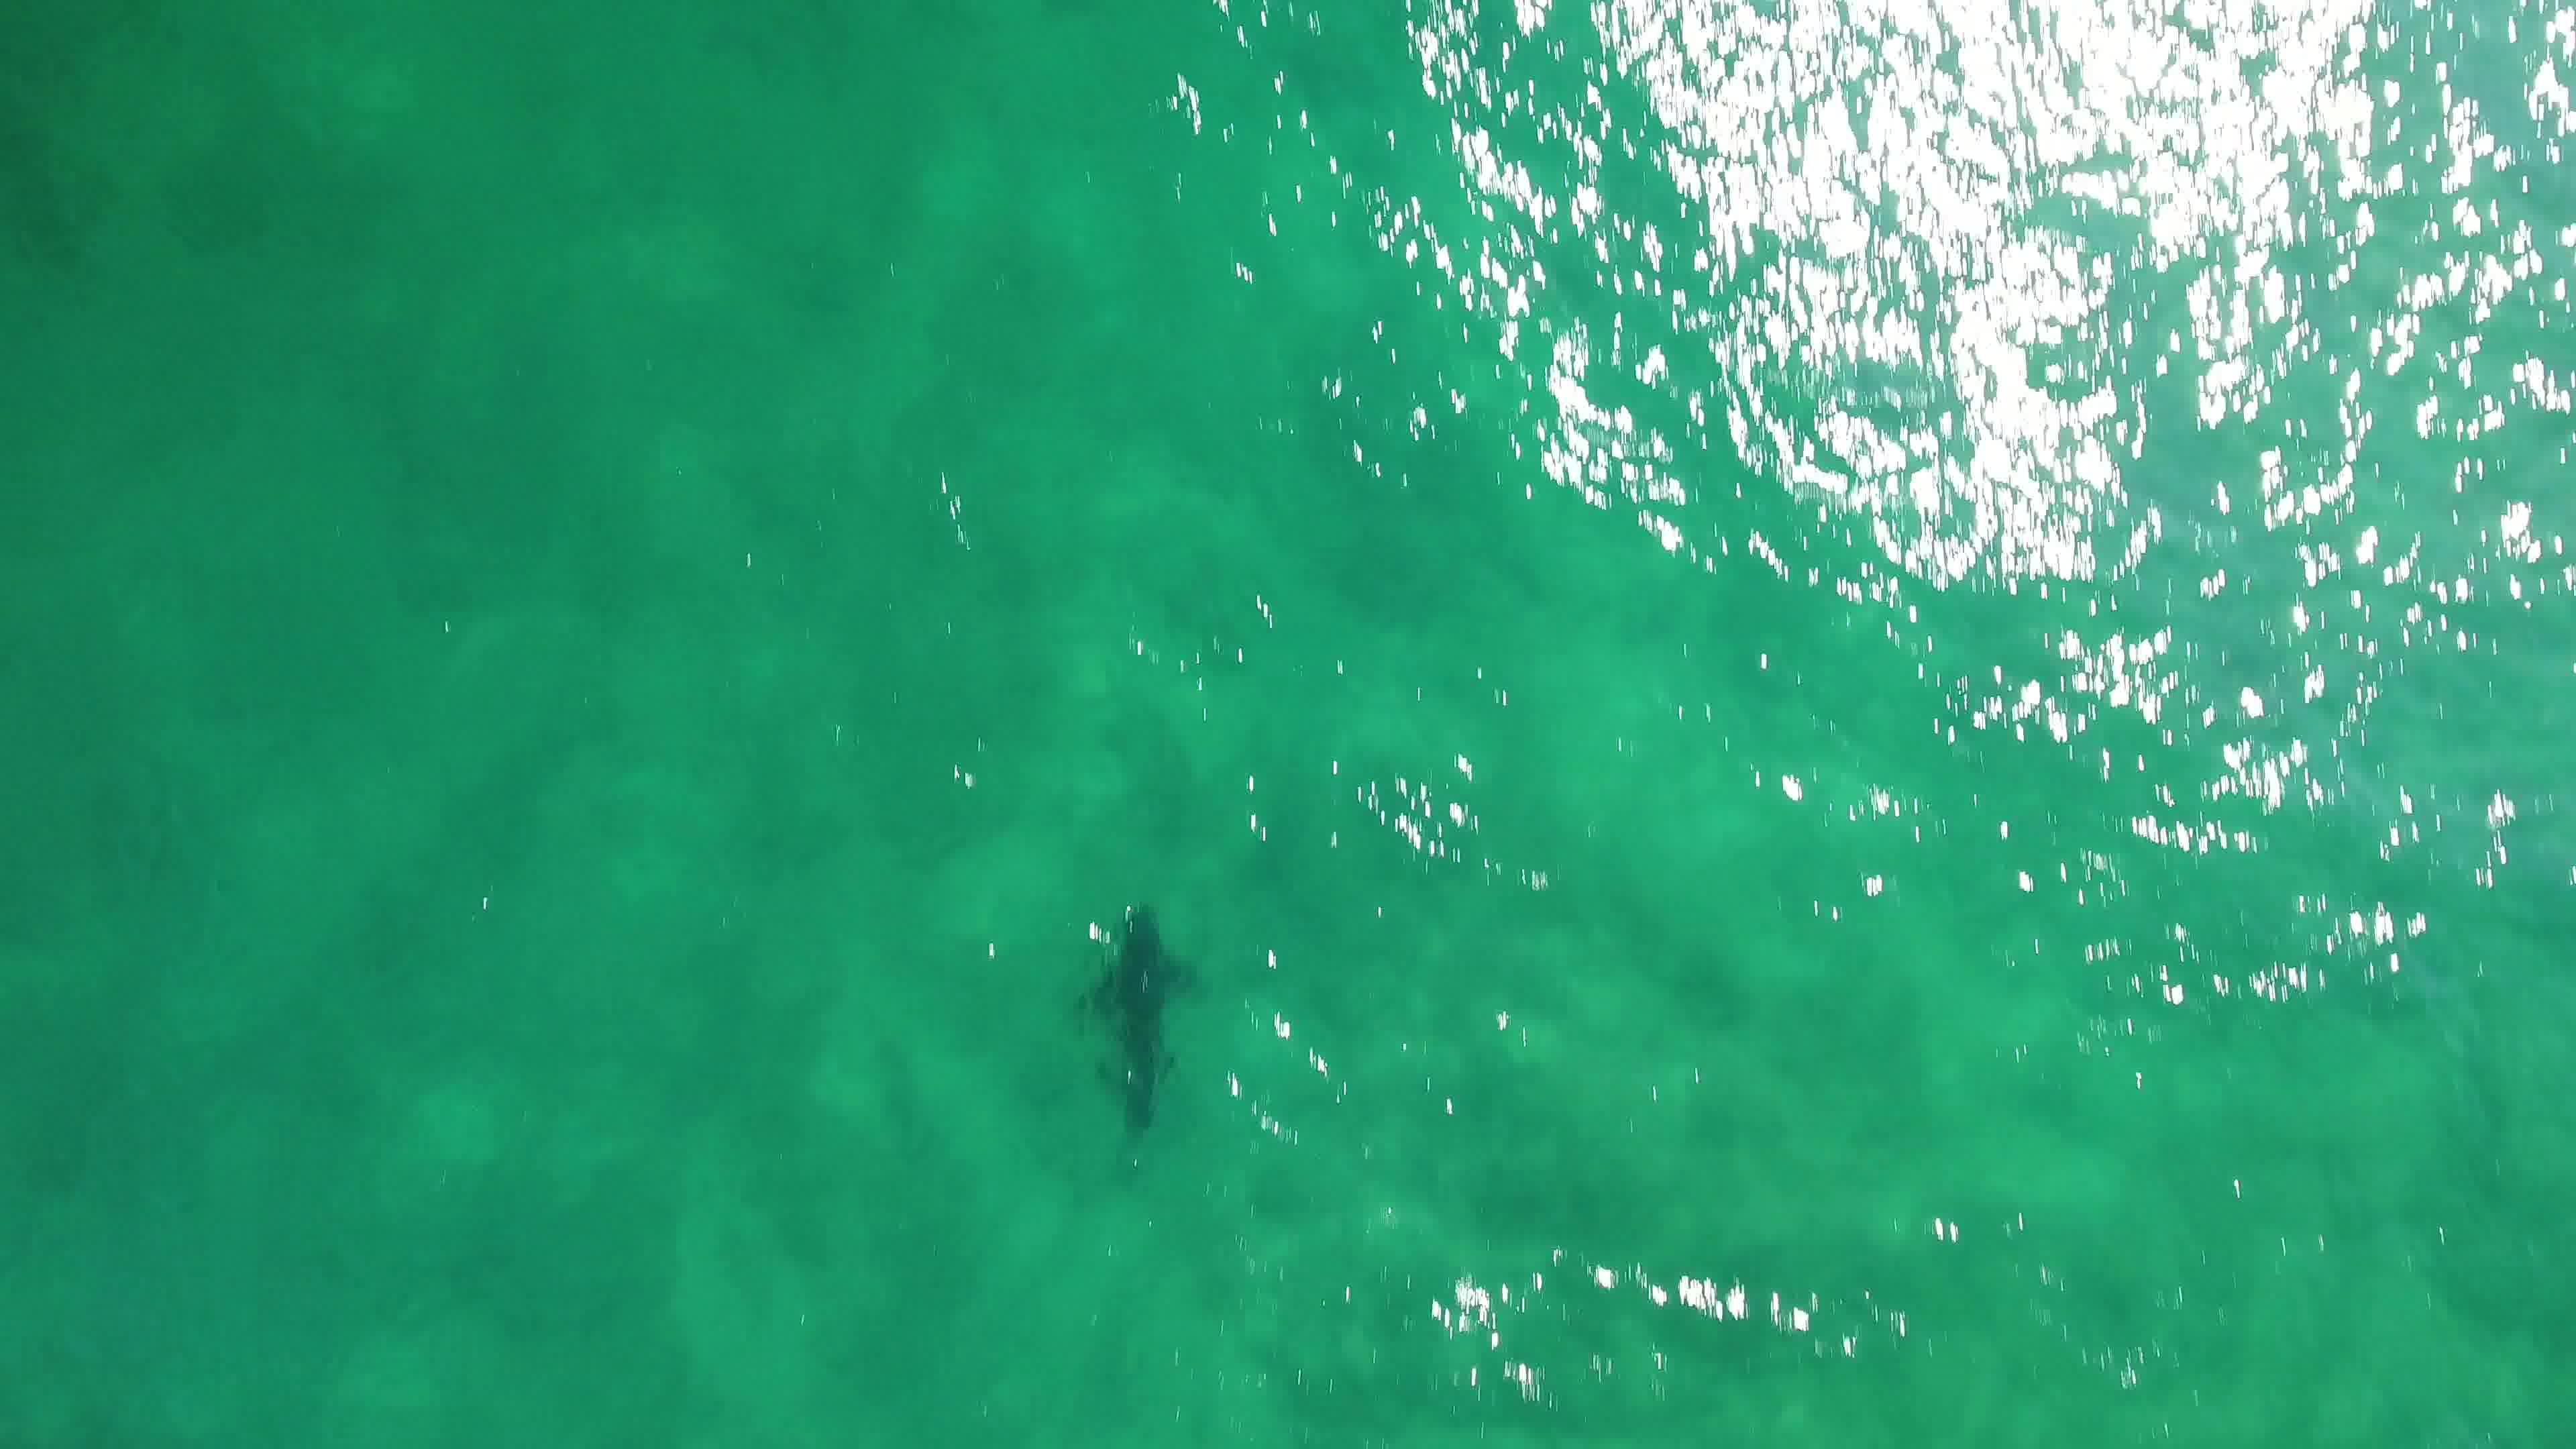shark: (1069, 904, 1208, 1139)
